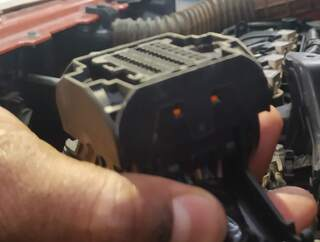connector: (55, 32, 271, 171)
